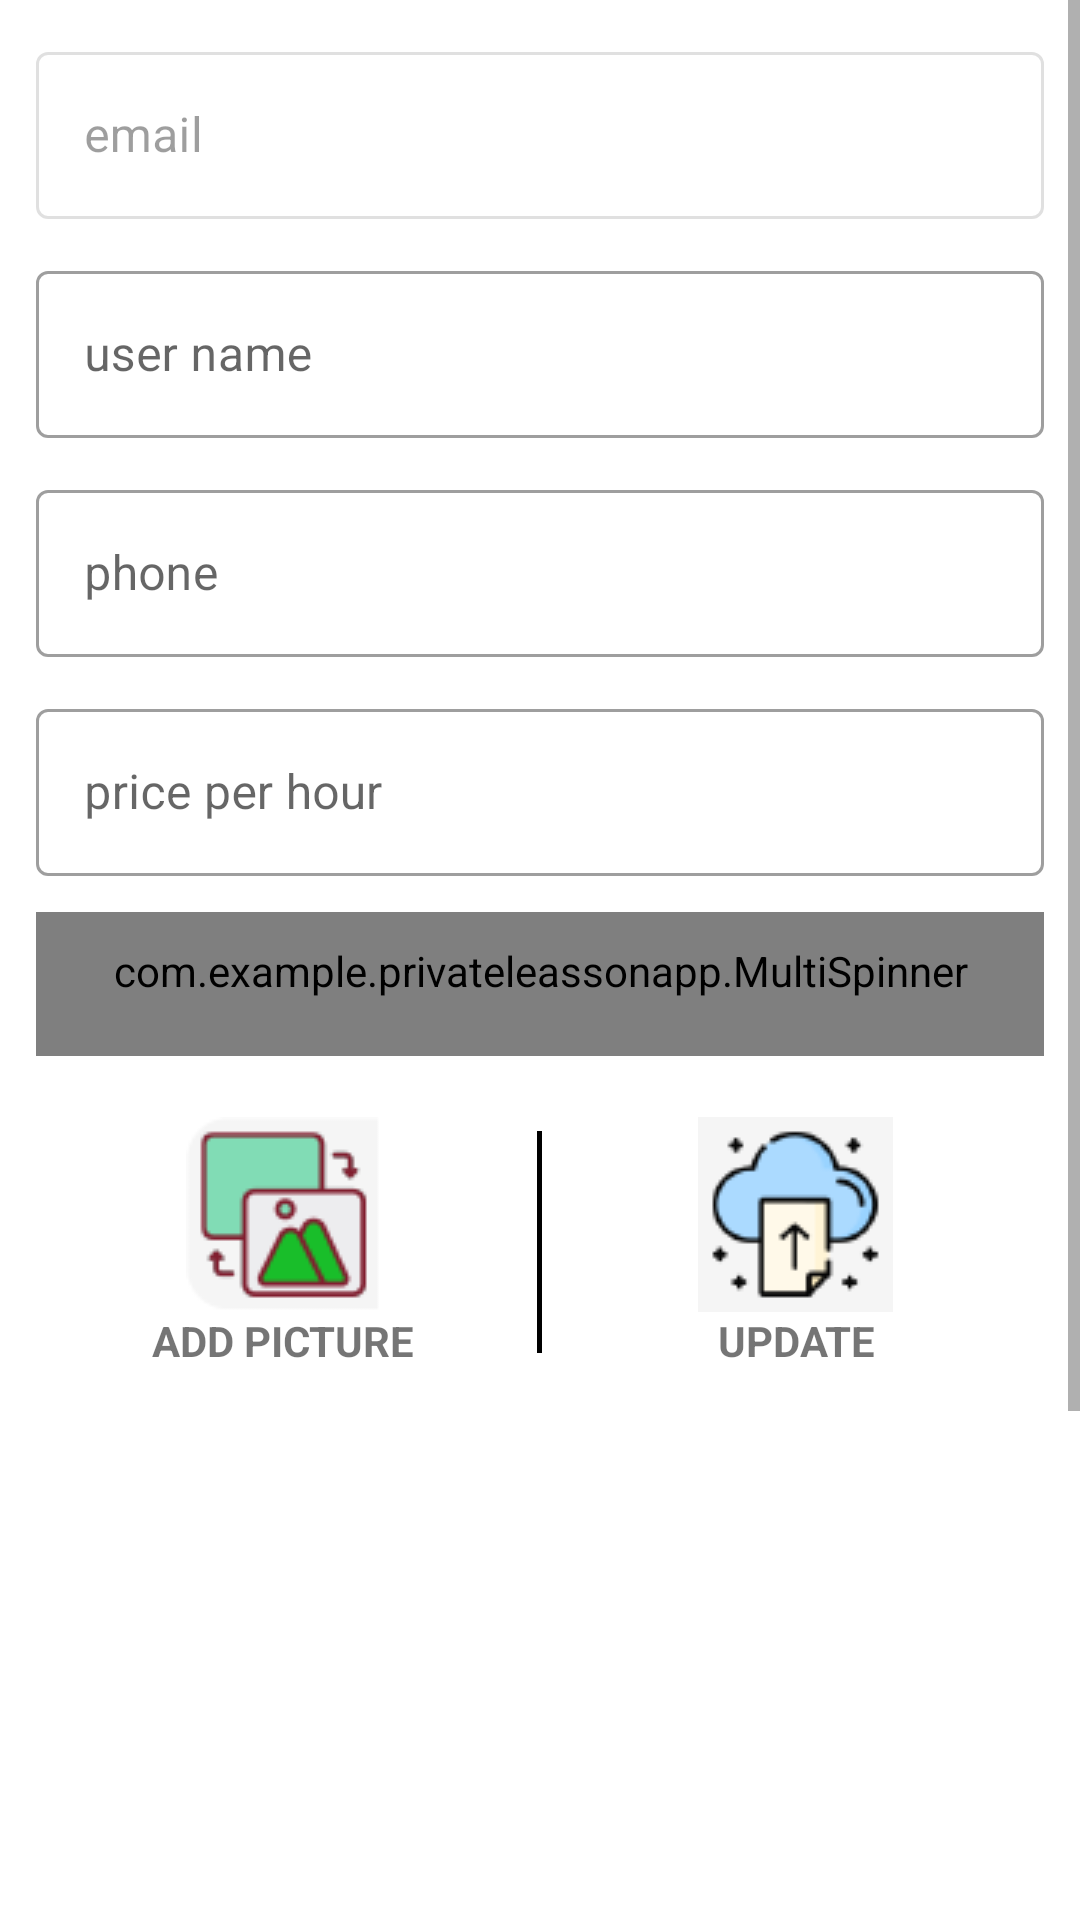

Icons on this 1080px x 1920px Android screen, each with the point to tap as (x=x, y=y):
upload: (x=795, y=1214)
